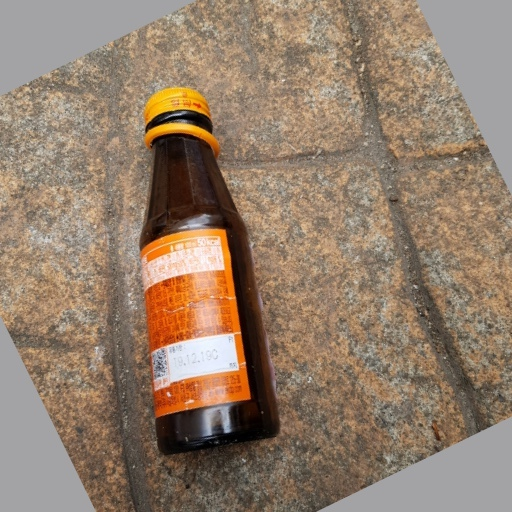Glass_3: (134, 86, 285, 461)
